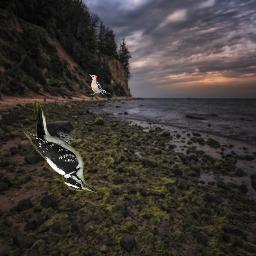Woodpecker: (25, 99, 98, 195), (87, 73, 111, 95)
